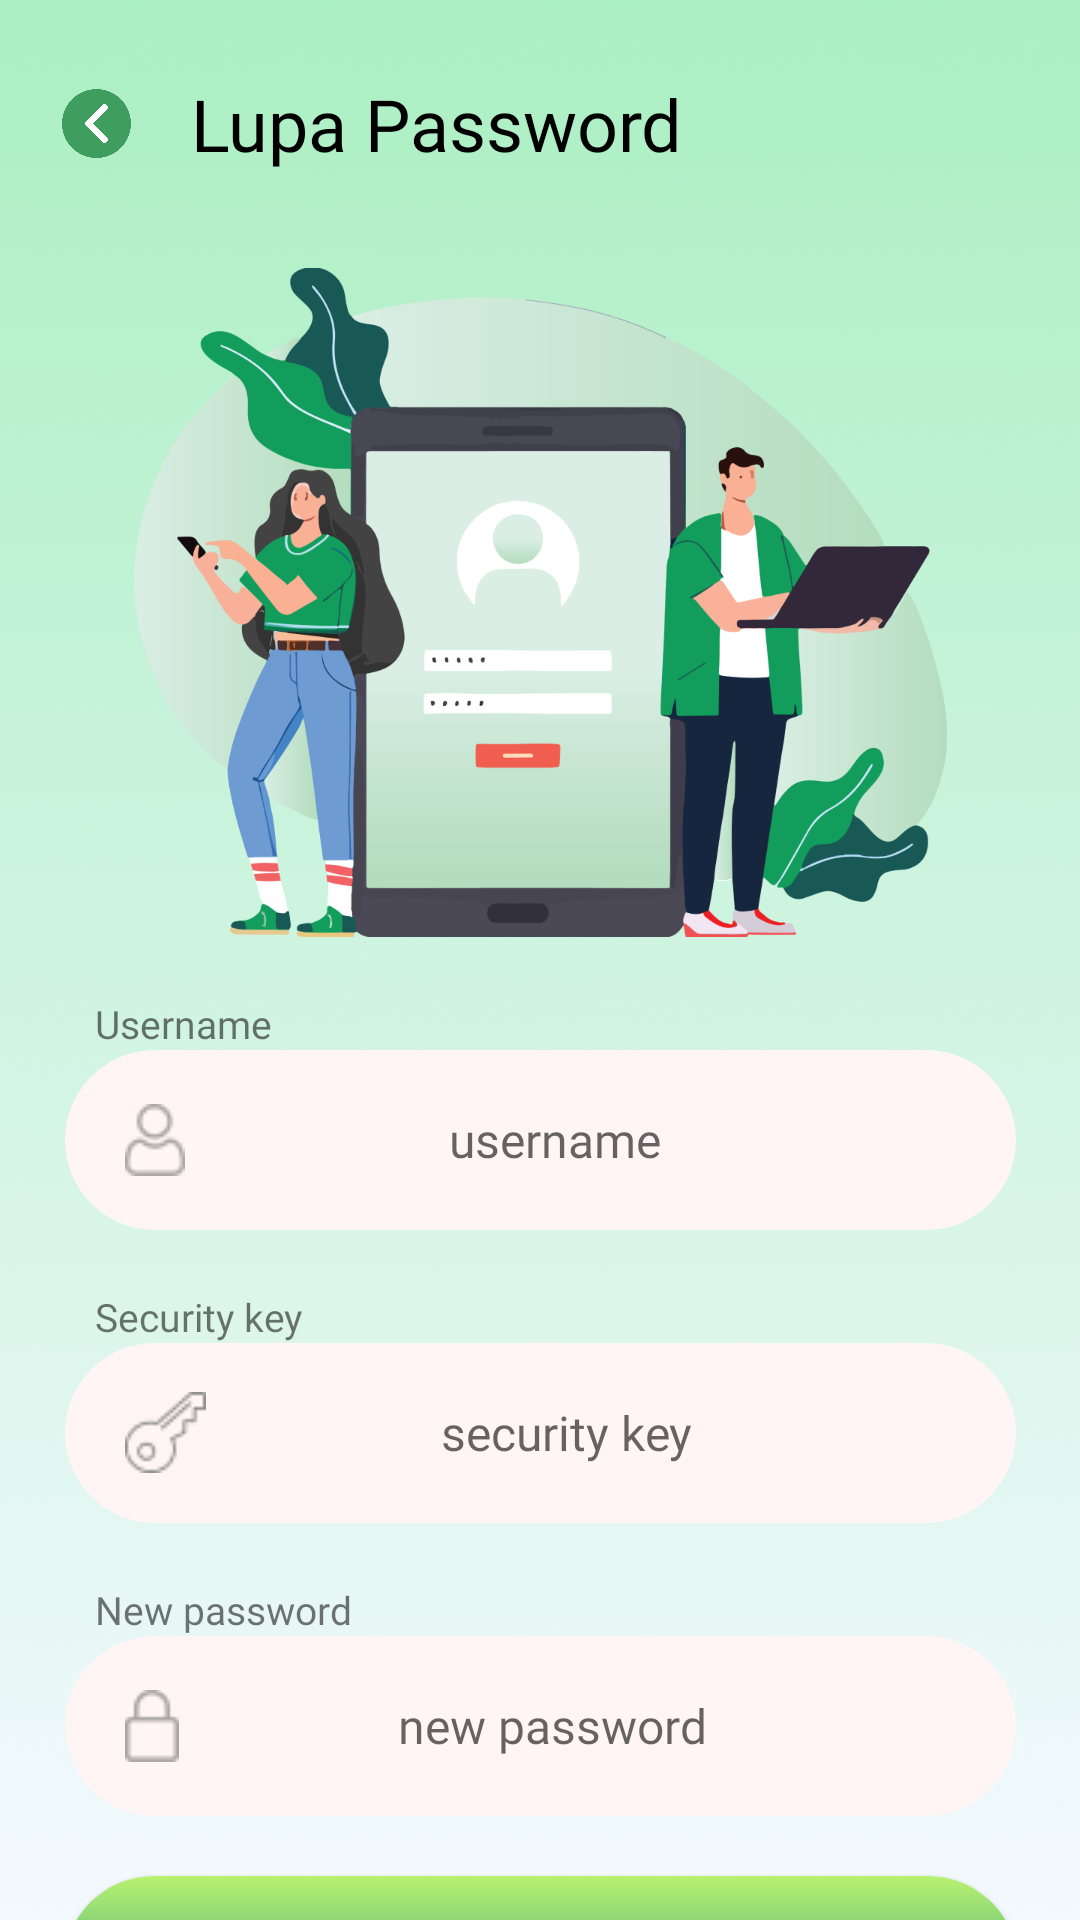

Point at icon controls on the screen. Image size 1080*1920, points as (x=x, y=y).
back: (x=96, y=123)
